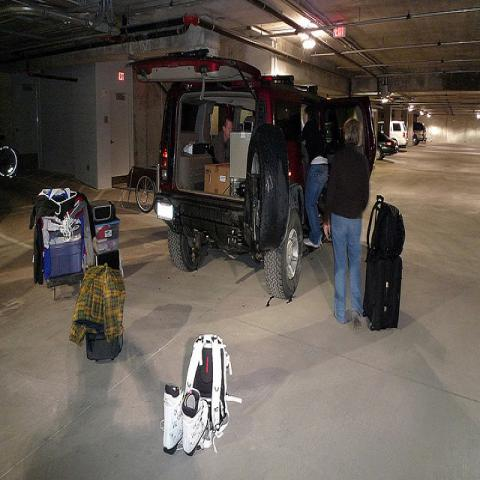car: (125, 48, 378, 300), (377, 120, 407, 154), (376, 129, 396, 161), (413, 122, 427, 144)
